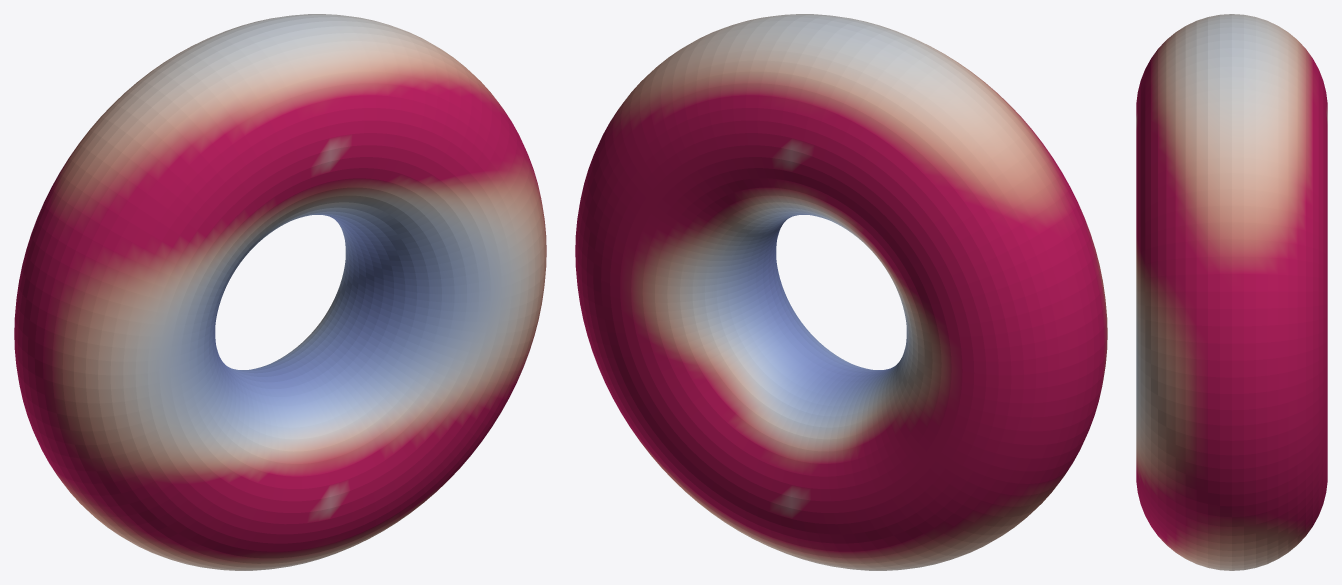
3 views of the same model, side by side, from view 1: azimuth 30°, elevation 25°; view 2: azimuth 150°, elevation 25°; view 3: azimuth 270°, elevation 25° (orthographic). The views are drawn at different scales.
Parts seen in each view (by area): view 1: world; view 2: world; view 3: world.
Boxes of the visible parts, x1,y1,x2,y2 form: world: (14, 14, 546, 570); world: (575, 14, 1107, 570); world: (1136, 14, 1327, 570).
Size of the model in its own units: 24.4 by 24.4 by 8.38.
